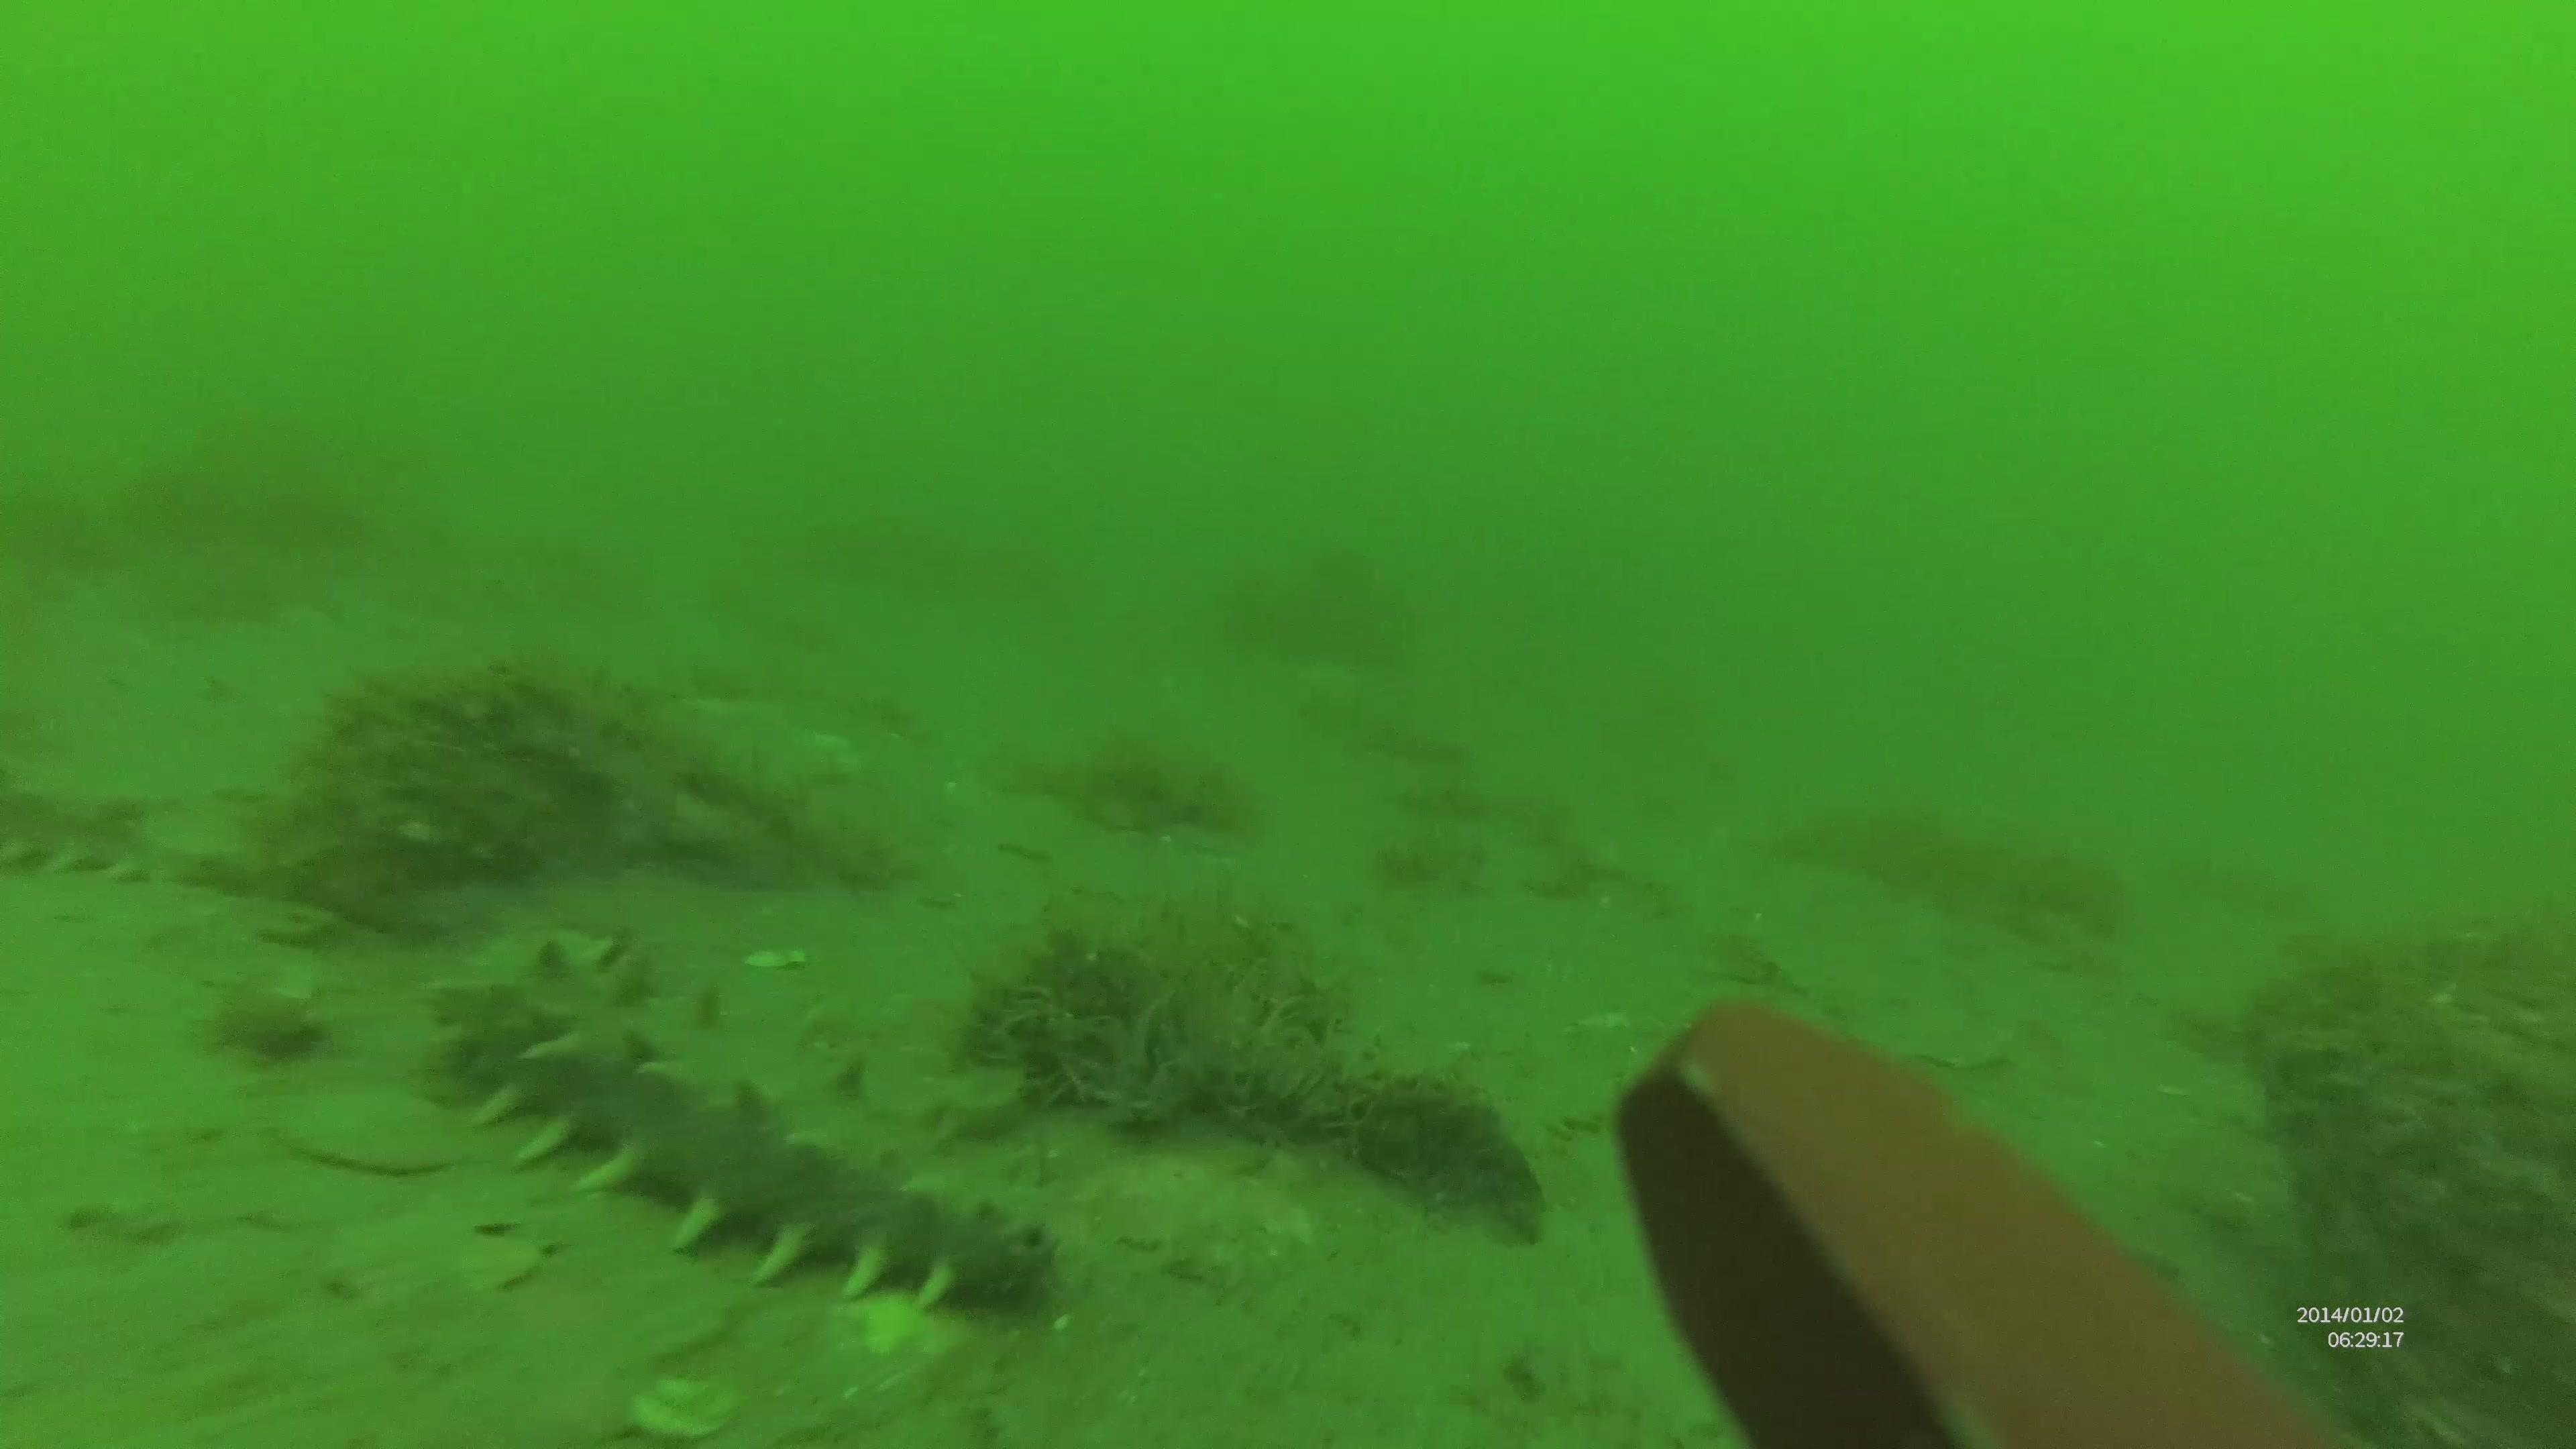holothurian: (439, 966, 1072, 1311), (7, 771, 428, 906)
scallop: (274, 1079, 474, 1182)
